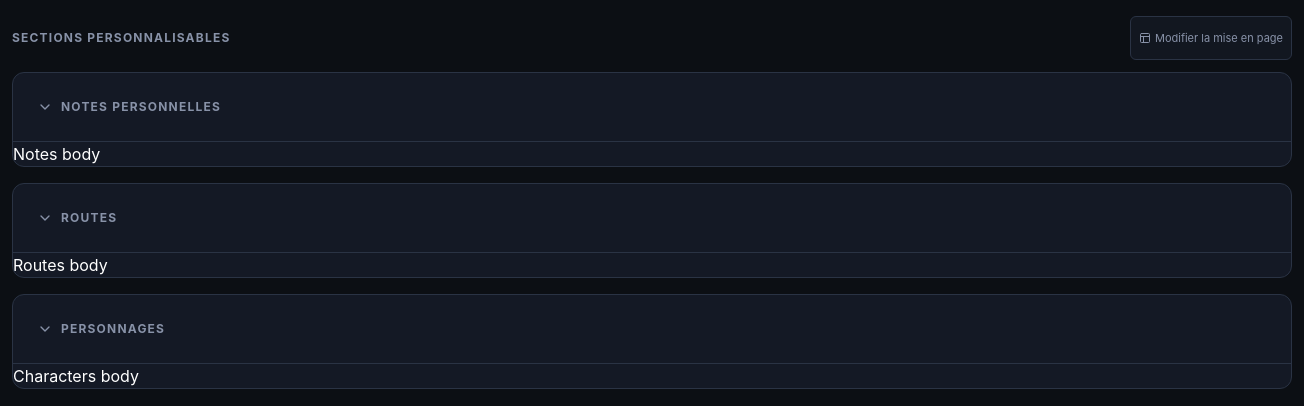
VnDetailLayout branches › ignores a drag-end with no drop target and one dropped on itself
Click the button "Modifier la mise en page" at (1211, 38), box x1=1130 y1=16 x2=1292 y2=60
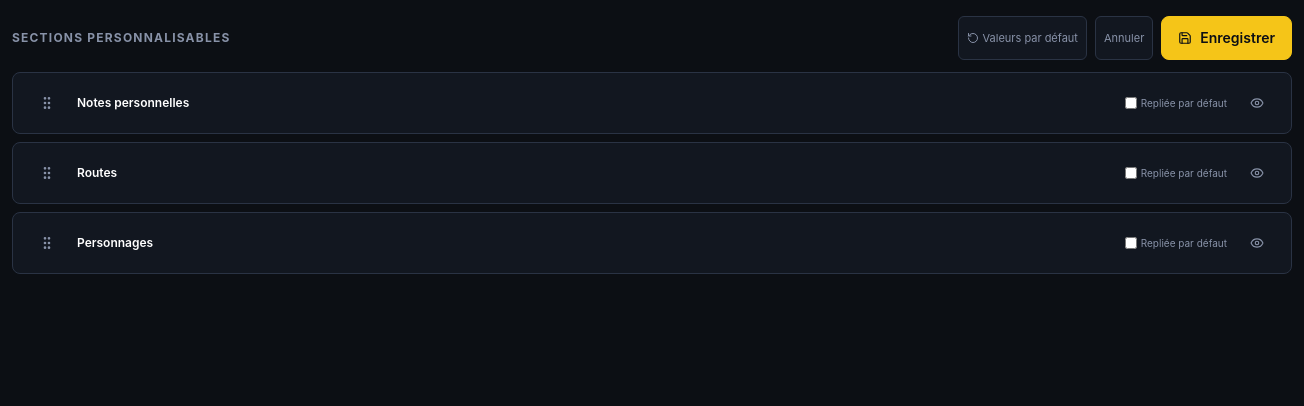
Expected: the number of list items is 3, x1=12 y1=72 x2=1292 y2=134; x1=12 y1=142 x2=1292 y2=204; x1=12 y1=212 x2=1292 y2=274
